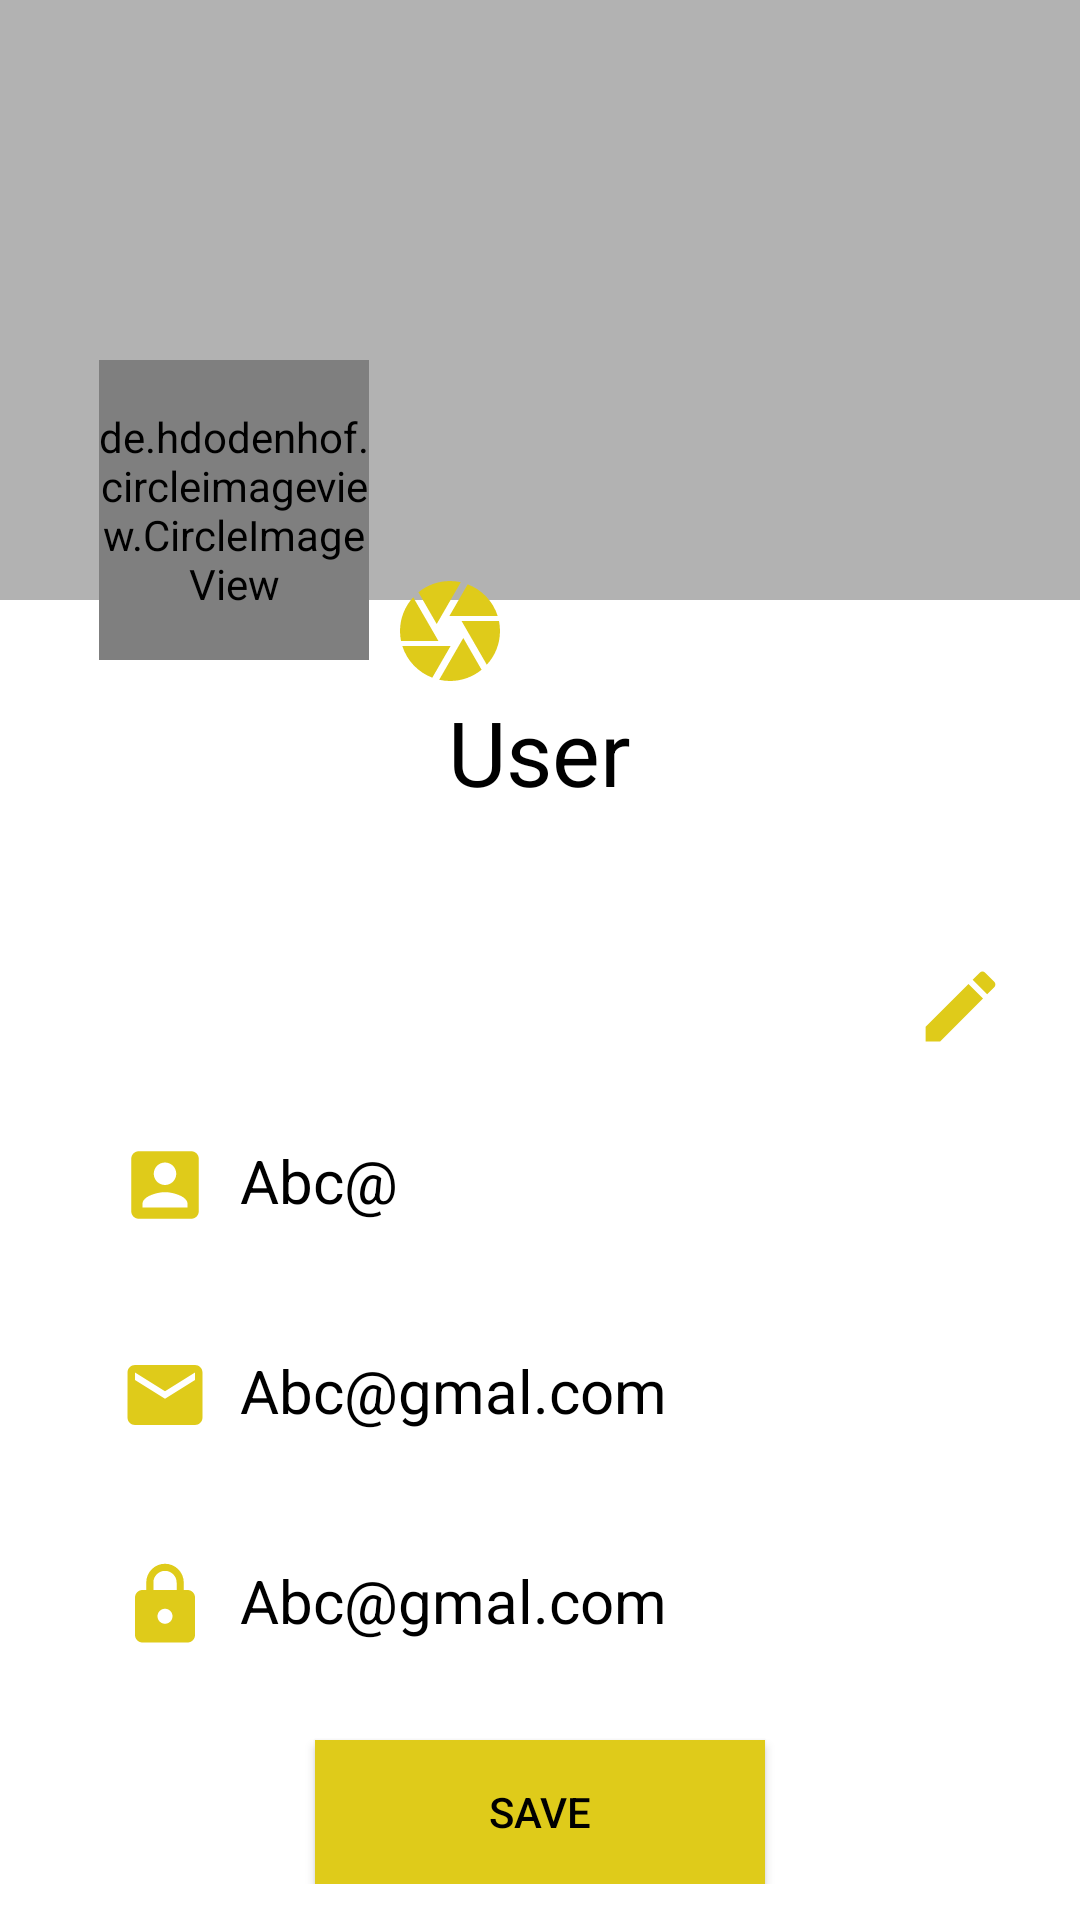

Where to tap for icons on this 1080×1920 app screen, as point (x, y):
account box: point (165, 1185)
camera: point (450, 626)
email: point (165, 1395)
lock: point (165, 1603)
mode edit: point (960, 1006)
